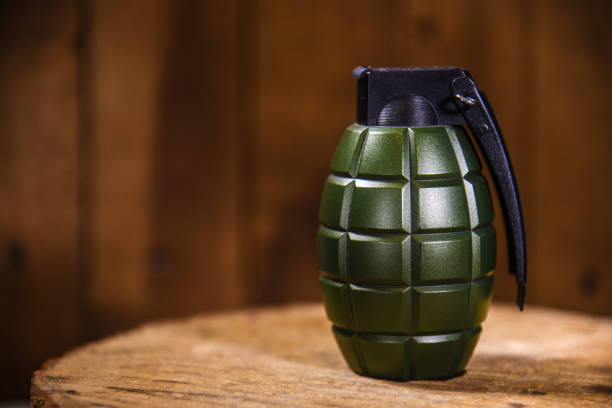e1: (313, 56, 530, 382)
